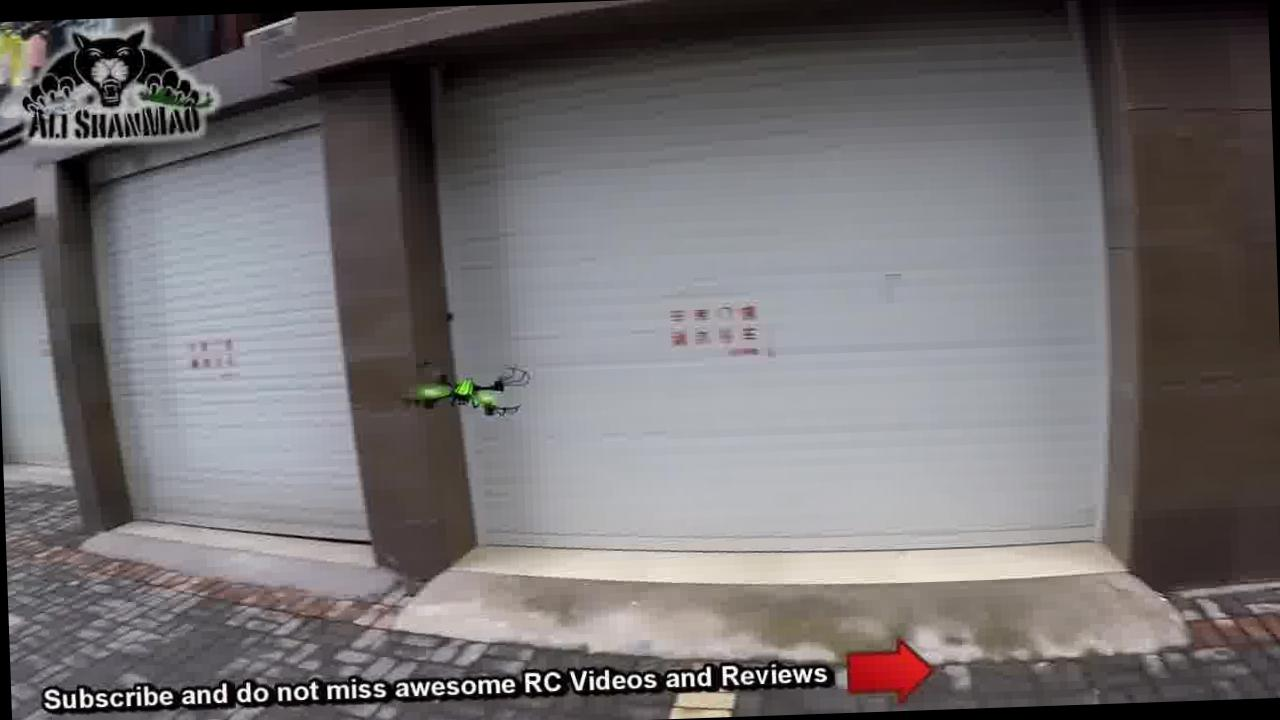drone: (394, 338, 554, 436)
